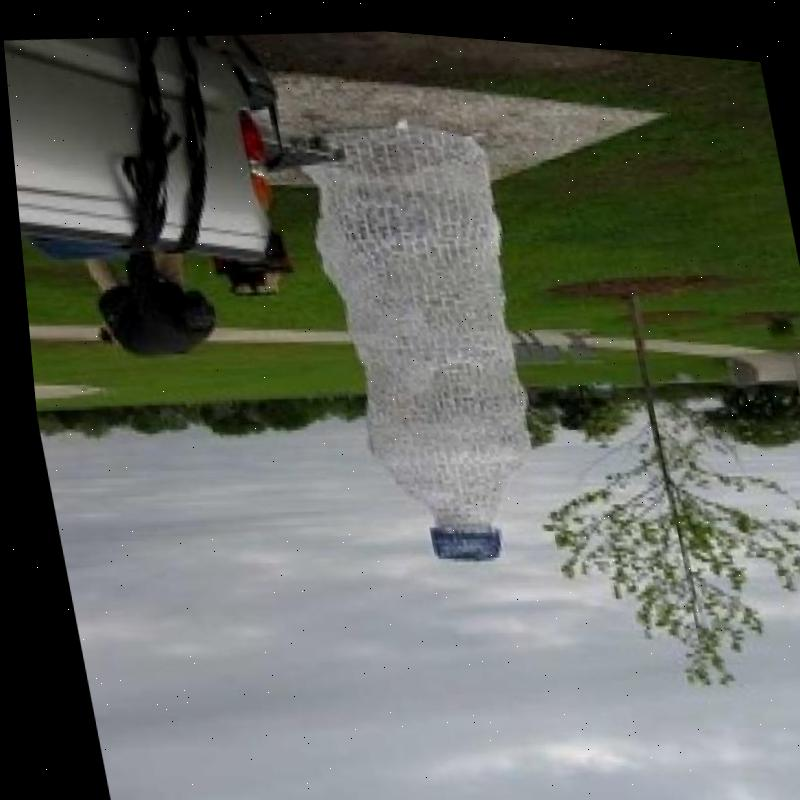botella: (278, 97, 559, 573)
